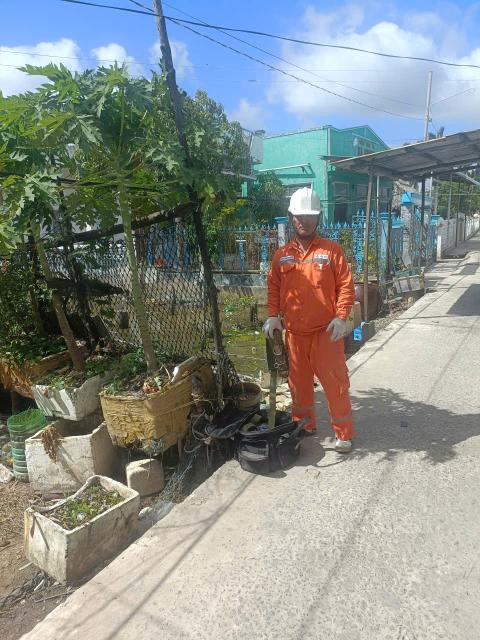gloves: (246, 308, 288, 340), (319, 312, 350, 345)
harness: (262, 322, 298, 390)
helmet: (270, 187, 332, 223)
shoes: (329, 429, 363, 455), (289, 412, 316, 438)
